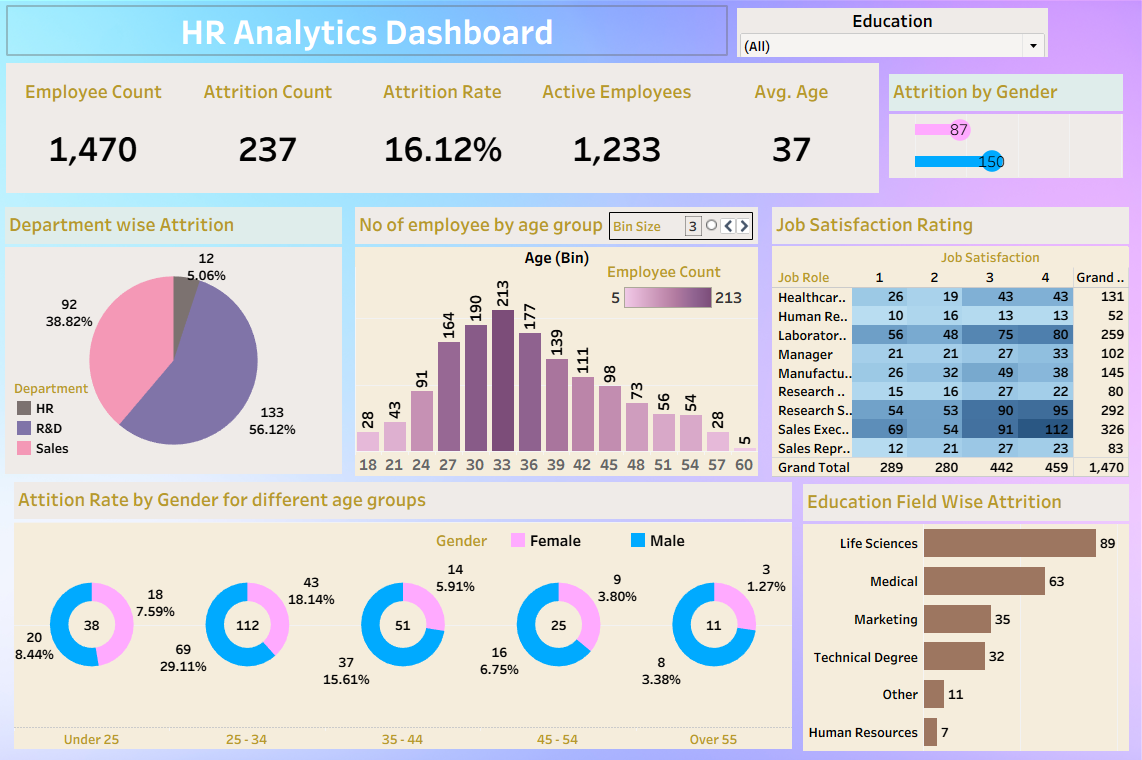

The dashboard page shown, as its layout file describes it:
{"tool":"tableau","page":{"name":"Dashboard 1","canvas":[1169,827],"ordinal":0},"visuals":[{"type":"image","param":"C:/Users/sumes/Downloads/vivid-blurred-colorful-background.jpg","box":[8,8,1153,811]},{"type":"text","box":[22,39,718,47]},{"type":"filter","title":"Department wise Attrition","param":"[federated.19ofnsr1t6mbxv1201k030jic7yy].[none:Education:nk]","box":[751,40,311,49]},{"type":"worksheet","title":"KPI","mark":"Automatic","box":[20,95,873,130]},{"type":"worksheet","title":"Attrition by Gender","mark":"Automatic","rows":["Gender"],"cols":["Calculation_1894608099812814848","Calculation_1894608099812814848"],"box":[903,106,234,104]},{"type":"worksheet","title":"Department wise Attrition","mark":"Pie","box":[19,239,337,267]},{"type":"worksheet","title":"No of employee by age group","mark":"Automatic","rows":["Employee Count"],"cols":["Age (bin) 2"],"box":[369,239,403,269]},{"type":"worksheet","title":"Job Satisfaction Rating","mark":"Square","rows":["Job Role"],"cols":["Job Satisfaction"],"box":[786,239,357,270]},{"type":"parameter","param":"[Parameters].[Parameter 2]","box":[623,244,144,28]},{"type":"legend","title":"No of employee by age group","param":"[federated.19ofnsr1t6mbxv1201k030jic7yy].[sum:Employee Count:qk]","box":[621,293,140,56]},{"type":"legend","title":"Department wise Attrition","param":"[federated.19ofnsr1t6mbxv1201k030jic7yy].[none:Department:nk]","box":[28,411,108,85]},{"type":"worksheet","title":"Attition Rate by Gender for different age groups","mark":"Pie","rows":["Calculation_1894608099986178053","Calculation_1894608099986178053"],"cols":["CF_age band"],"box":[28,514,778,267]},{"type":"worksheet","title":"Education Field Wise Attrition","mark":"Automatic","rows":["Education Field"],"cols":["Calculation_1894608099812814848"],"box":[817,516,326,267]},{"type":"legend","title":"Attition Rate by Gender for different age groups","param":"[federated.19ofnsr1t6mbxv1201k030jic7yy].[none:Gender:nk]","box":[450,562,352,27]}]}

Visuals, with their boxes on the page's 1169x827 design canvas (x1, y1, x2, y2). These are canvas units, not pixel positions in the 1142x760 screenshot, which may show the page scaled, cropped or inside an application window:
image: select_region(8, 8, 1161, 819)
text: select_region(22, 39, 740, 86)
"Department wise Attrition" filter: select_region(751, 40, 1062, 89)
"KPI" worksheet: select_region(20, 95, 893, 225)
"Attrition by Gender" worksheet: select_region(903, 106, 1137, 210)
"Department wise Attrition" worksheet (Pie marks): select_region(19, 239, 356, 506)
"No of employee by age group" worksheet: select_region(369, 239, 772, 508)
"Job Satisfaction Rating" worksheet (Square marks): select_region(786, 239, 1143, 509)
parameter: select_region(623, 244, 767, 272)
"No of employee by age group" legend: select_region(621, 293, 761, 349)
"Department wise Attrition" legend: select_region(28, 411, 136, 496)
"Attition Rate by Gender for different age groups" worksheet (Pie marks): select_region(28, 514, 806, 781)
"Education Field Wise Attrition" worksheet: select_region(817, 516, 1143, 783)
"Attition Rate by Gender for different age groups" legend: select_region(450, 562, 802, 589)
